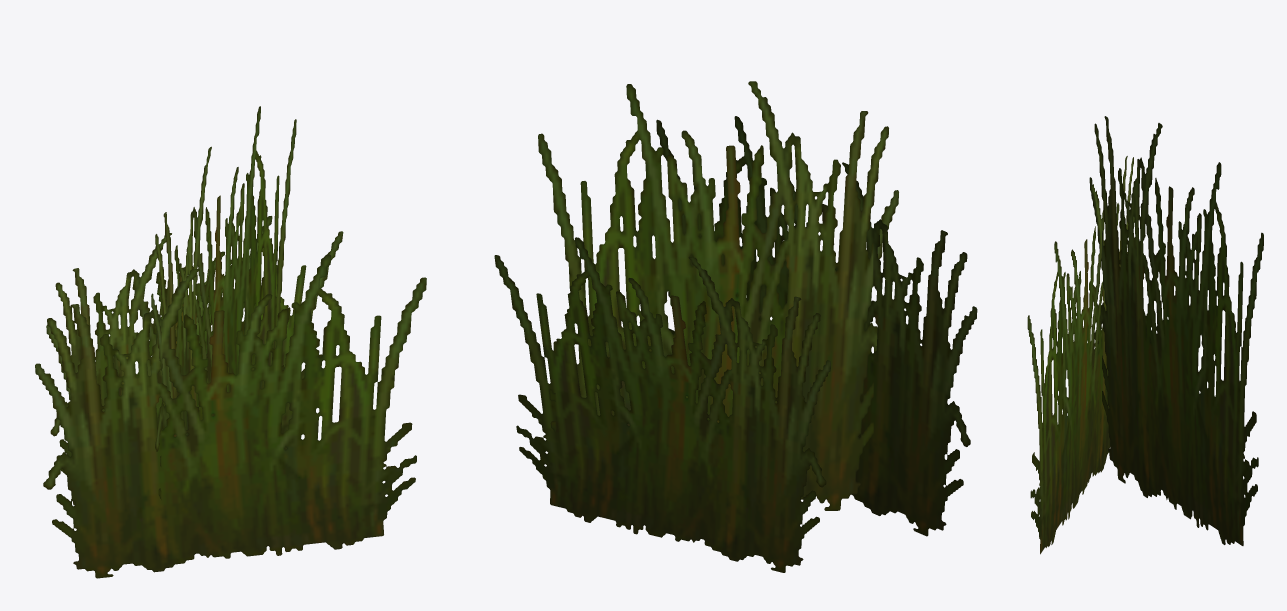
The model's file is town_rivergrass01.fbx.
3 renders of one model, left to right at view 1: azimuth 30°, elevation 25°; view 2: azimuth 150°, elevation 25°; view 3: azimuth 270°, elevation 25°, orthographic. The views are drawn at different scales.
Parts seen in each view (by area): view 1: town_layout_rivergrass01; view 2: town_layout_rivergrass01; view 3: town_layout_rivergrass01.
Part boxes in pixels (x1=…): town_layout_rivergrass01: x1=35, y1=106, x2=426, y2=578; town_layout_rivergrass01: x1=494, y1=81, x2=977, y2=572; town_layout_rivergrass01: x1=1027, y1=116, x2=1263, y2=554.
Bounding box in the file's own units: 2.06 × 2.2 × 1.1.
